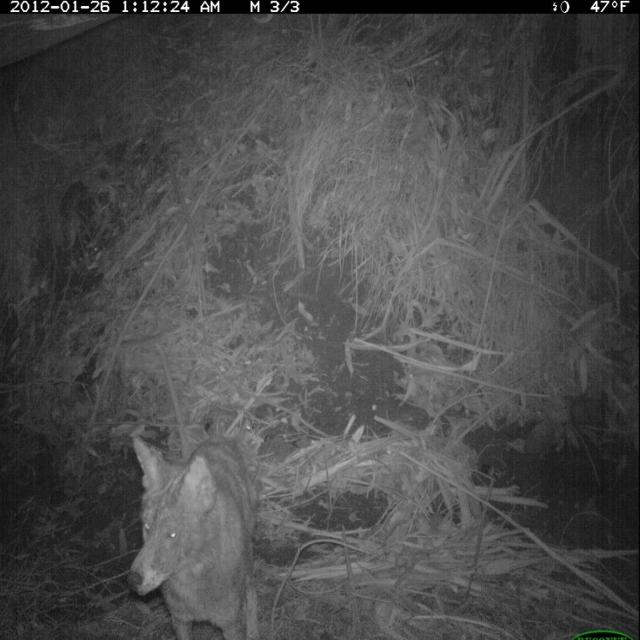coyote: (124, 427, 267, 640)
